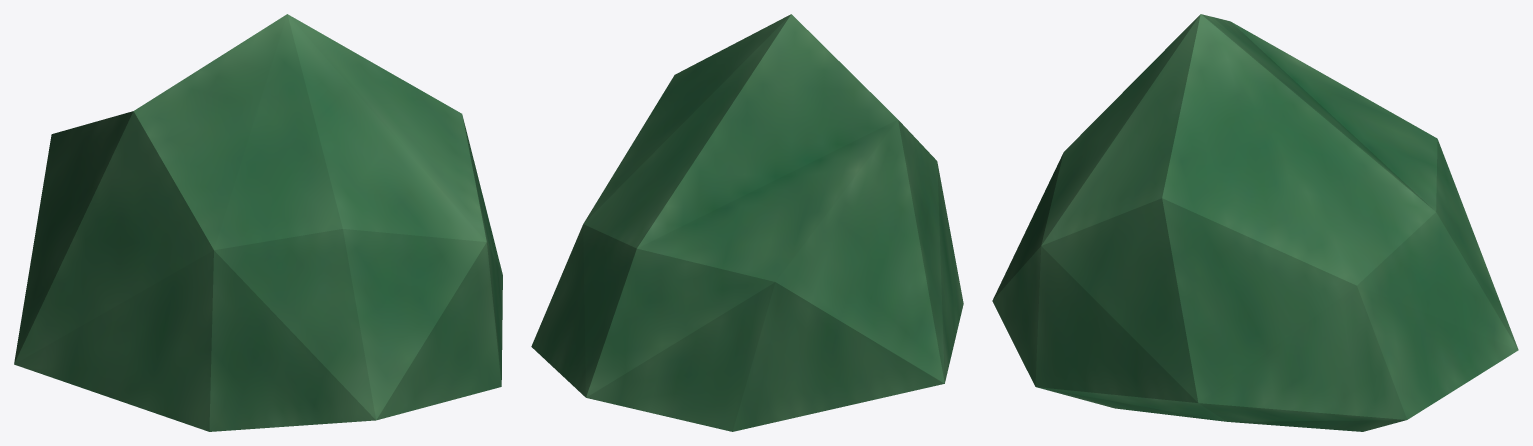
The model's file is GJ_Decor_Exterior_Bush_03.fbx.
3 views of the same model, side by side, from view 1: azimuth 30°, elevation 25°; view 2: azimuth 150°, elevation 25°; view 3: azimuth 270°, elevation 25° (orthographic). The views are drawn at different scales.
Parts seen in each view (by area): view 1: GJ_Decor_Exterior_Bush_03; view 2: GJ_Decor_Exterior_Bush_03; view 3: GJ_Decor_Exterior_Bush_03.
Boxes of the visible parts, x1,y1,x2,y2 form: GJ_Decor_Exterior_Bush_03: (14,14,502,431); GJ_Decor_Exterior_Bush_03: (531,14,963,431); GJ_Decor_Exterior_Bush_03: (992,14,1518,431).
Bounding box in the file's own units: 3.06 × 2.55 × 3.42.
1 material, 1 textured.
